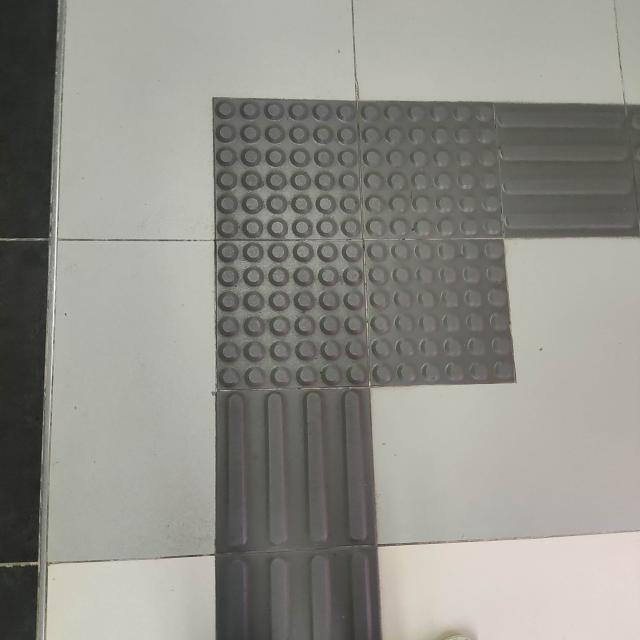kanan: (153, 52, 640, 487)
